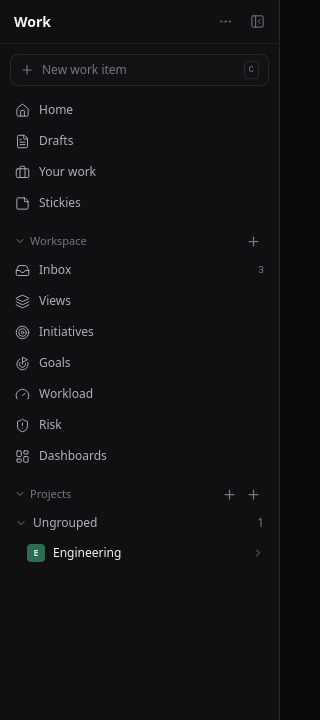
workspace section › collapses and persists
Click the button with aria-label "collapse workspace section". click: (50, 241)
box: [14,233,87,249]
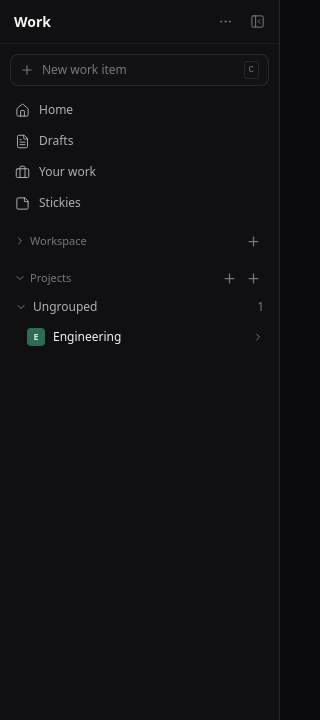
Now the button "Inbox" is gone
